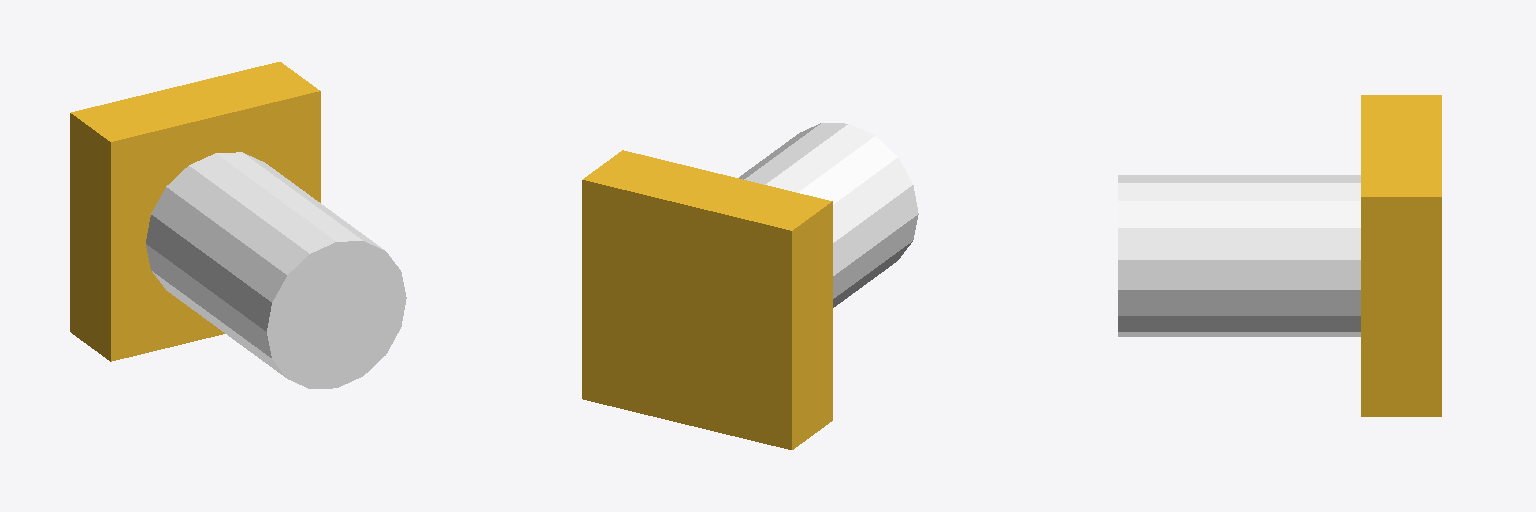
Rendered from MDLSat_MainBody.obj.
3 renders of one model, left to right at view 1: azimuth 30°, elevation 25°; view 2: azimuth 150°, elevation 25°; view 3: azimuth 270°, elevation 25°, orthographic.
Parts seen in each view (by area): view 1: Cube2; view 2: Cube2; view 3: Cube2.
Boxes of the visible parts, <box> form: Cube2: <box>70,62,406,388</box>; Cube2: <box>582,123,918,449</box>; Cube2: <box>1118,95,1441,416</box>.
Bounding box in the file's own units: 3 × 3 × 4.